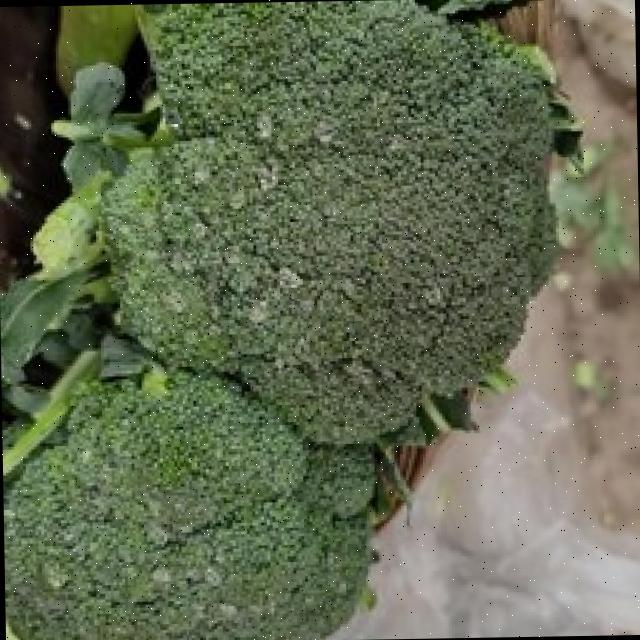Broccoli: (104, 0, 553, 440), (104, 0, 551, 441), (5, 370, 372, 640), (5, 371, 373, 640)
